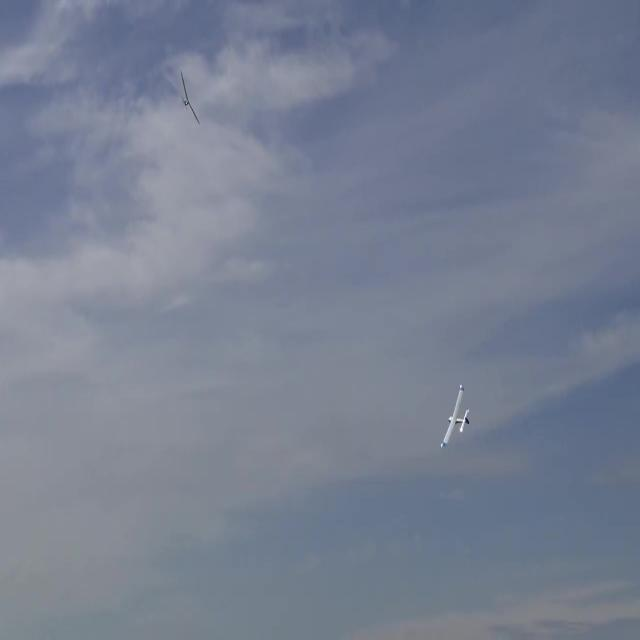iha: (179, 3, 201, 62), (432, 413, 465, 419)
